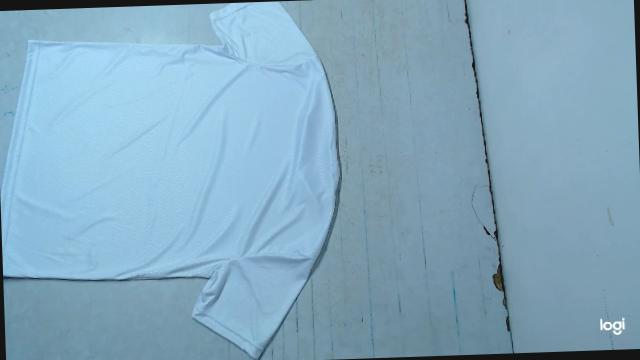new-garment: (0, 1, 339, 358)
